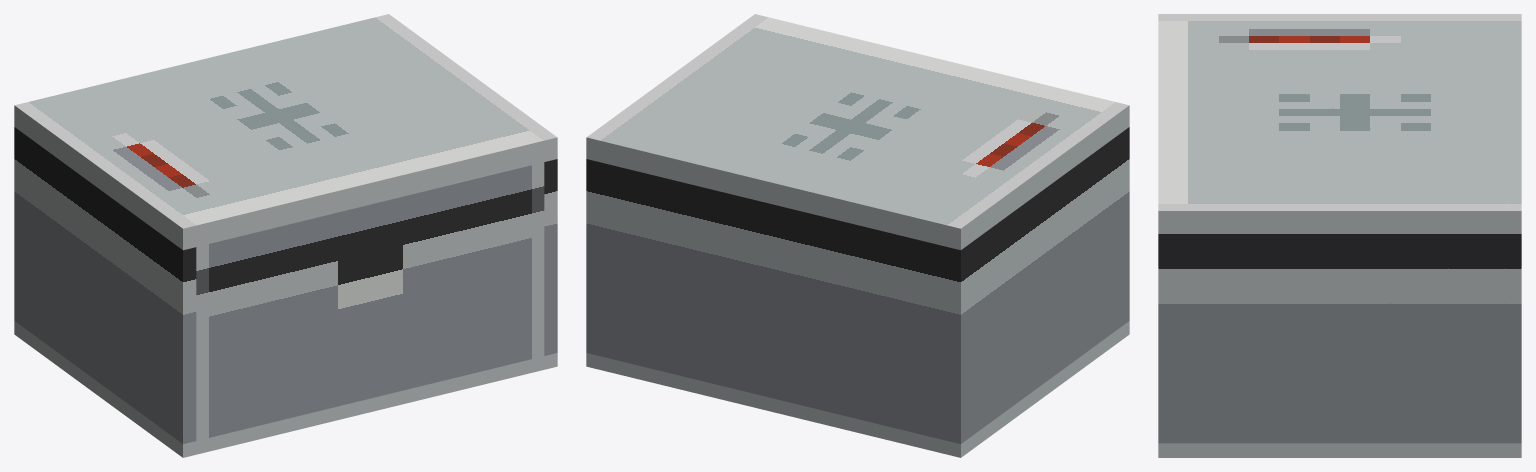
The model's file is freezer_crate.glb.
3 renders of one model, left to right at view 1: azimuth 30°, elevation 25°; view 2: azimuth 150°, elevation 25°; view 3: azimuth 270°, elevation 25°, orthographic. The views are drawn at different scales.
Parts seen in each view (by area): view 1: freezer_crate_Body, freezer_crate_Lid; view 2: freezer_crate_Body, freezer_crate_Lid; view 3: freezer_crate_Body, freezer_crate_Lid.
Part boxes in pixels (x1,y1,x2,y2): freezer_crate_Body: [14, 127, 557, 457]; freezer_crate_Lid: [14, 14, 557, 250]; freezer_crate_Body: [586, 127, 1129, 457]; freezer_crate_Lid: [586, 14, 1129, 250]; freezer_crate_Body: [1158, 234, 1521, 457]; freezer_crate_Lid: [1158, 14, 1521, 233].
Bounding box in the file's own units: 1 × 0.585 × 0.78.
2 materials, 2 textured.
